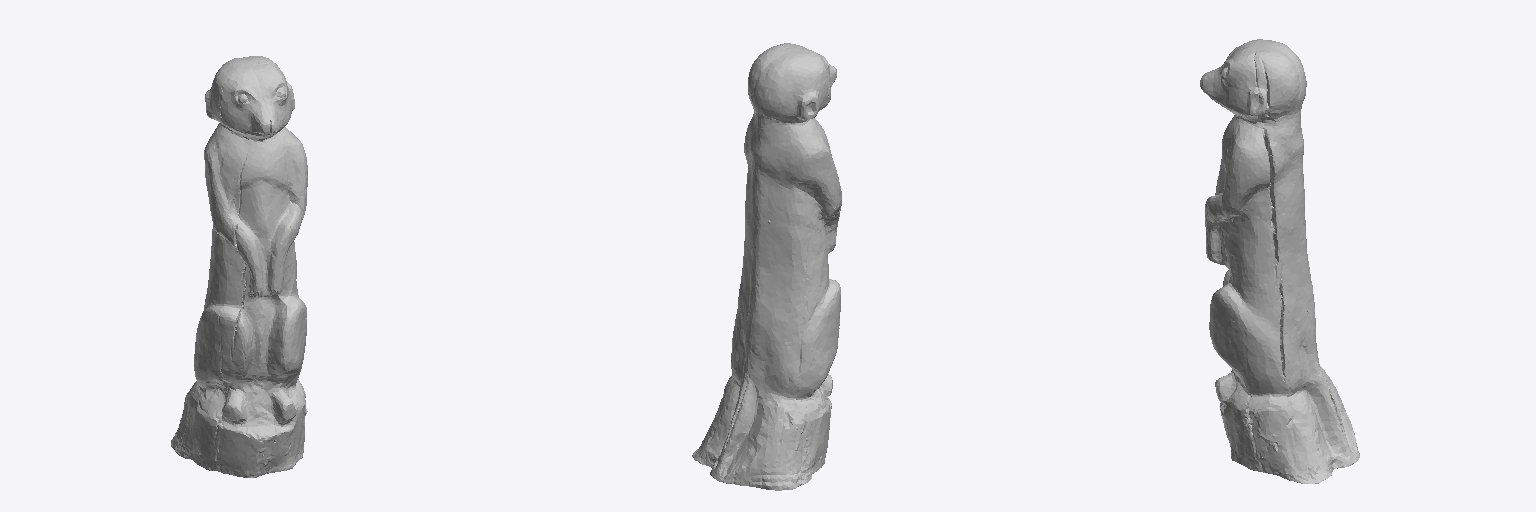
The model's file is statue_1.obj.
3 views of the same model, side by side, from view 1: azimuth 30°, elevation 25°; view 2: azimuth 150°, elevation 25°; view 3: azimuth 270°, elevation 25° (orthographic).
Visible parts, largest first — view 1: surikata; view 2: surikata; view 3: surikata.
Boxes of the visible parts, <box> form: surikata: <box>171,56,307,477</box>; surikata: <box>692,43,841,490</box>; surikata: <box>1200,39,1359,483</box>.
Bounding box in the file's own units: 0.2626 × 0.8677 × 0.31.